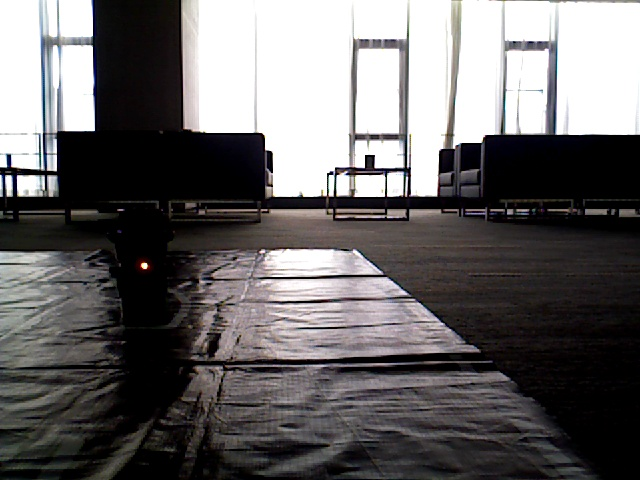yellow: (123, 210, 168, 312)
